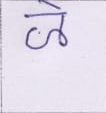o_matra: (53, 1, 71, 47)
